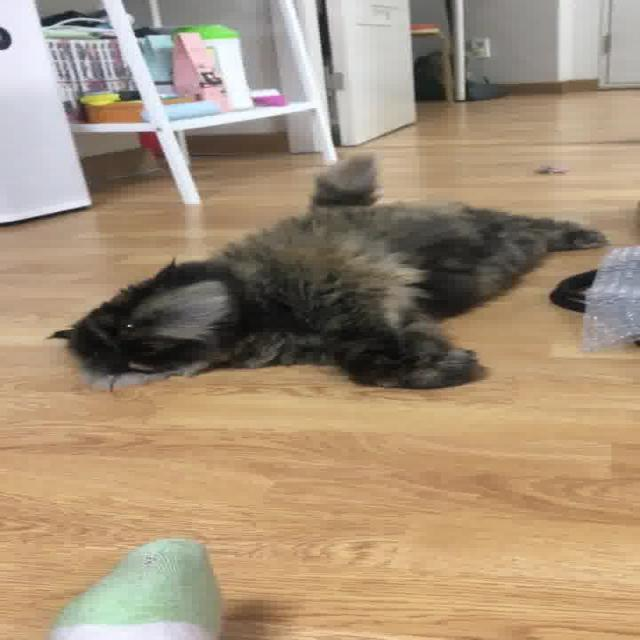cat: (42, 151, 618, 396)
